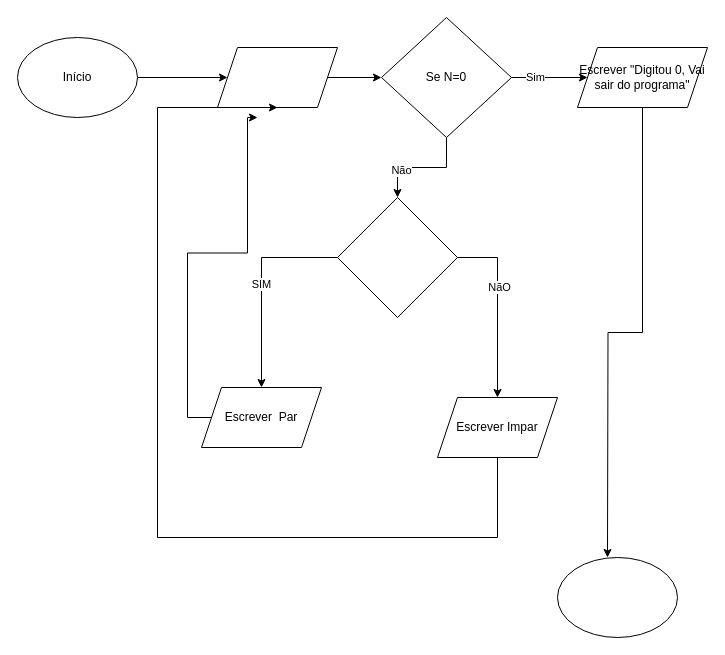
This 725x655 diagram has some shape labels left out. The centre of each missing label's shape, as x and y in pixels:
Fim: pixel 617 597
Ler N: pixel 277 77
N/2=0 resto: pixel 397 257
